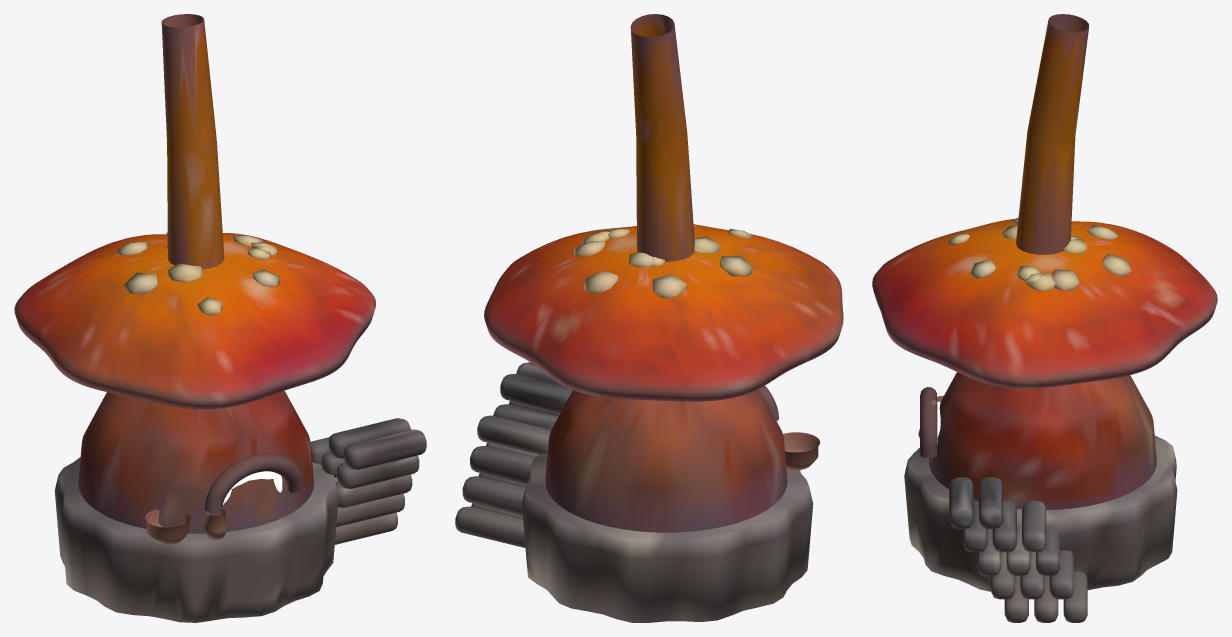
The model's file is mantar_ocak.glb.
3 views of the same model, side by side, from view 1: azimuth 30°, elevation 25°; view 2: azimuth 150°, elevation 25°; view 3: azimuth 270°, elevation 25° (orthographic). The views are drawn at different scales.
Parts seen in each view (by area): view 1: mantar_ocak_LOD0; view 2: mantar_ocak_LOD0; view 3: mantar_ocak_LOD0.
Boxes of the visible parts, x1,y1,x2,y2 form: mantar_ocak_LOD0: [14, 14, 426, 622]; mantar_ocak_LOD0: [455, 14, 843, 622]; mantar_ocak_LOD0: [872, 14, 1217, 622].
Size of what is drawn, in the model's own units: 2.15 by 3.32 by 2.
